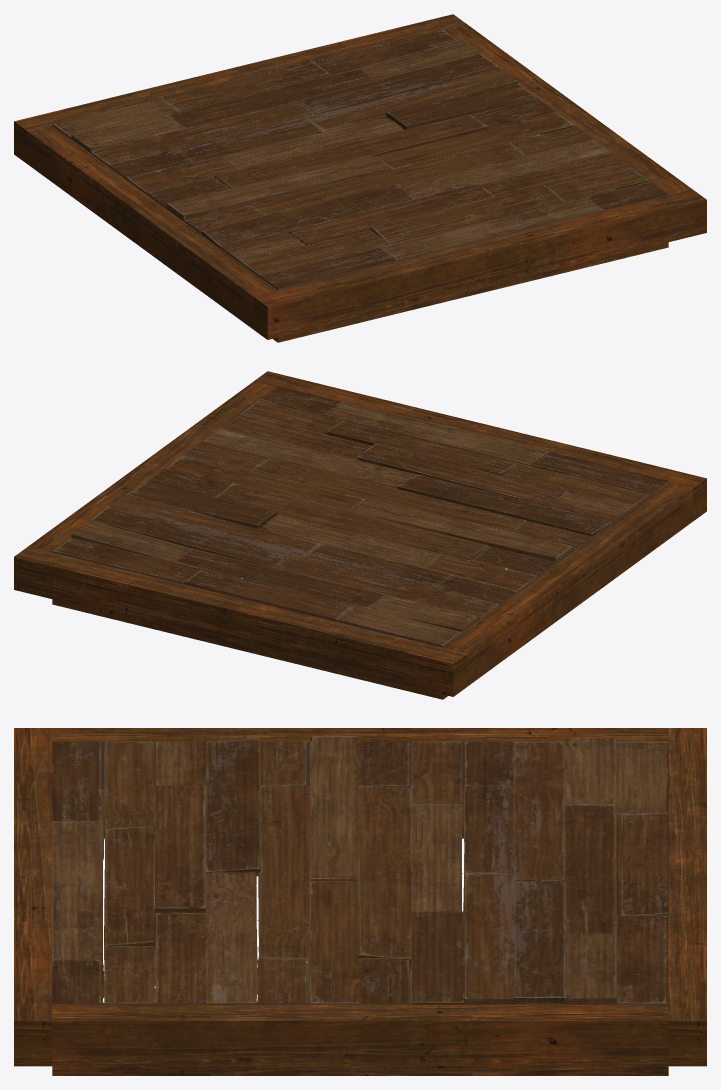
The picture shows the model from 3 angles, top to bottom: view 1: azimuth 30°, elevation 25°; view 2: azimuth 150°, elevation 25°; view 3: azimuth 270°, elevation 25°; orthographic projection. The views are drawn at different scales.
Visible parts, largest first — view 1: SM_BB_T2_Floor_Large_LOD0; view 2: SM_BB_T2_Floor_Large_LOD0; view 3: SM_BB_T2_Floor_Large_LOD0.
Part boxes in pixels (box(x1,y1,x2,y2)): SM_BB_T2_Floor_Large_LOD0: box(14, 14, 706, 342); SM_BB_T2_Floor_Large_LOD0: box(14, 371, 706, 699); SM_BB_T2_Floor_Large_LOD0: box(14, 728, 706, 1075).
Size of the model in its own units: 3.38 by 0.4269 by 3.38.
Materials: 2 (2 with a texture image).
